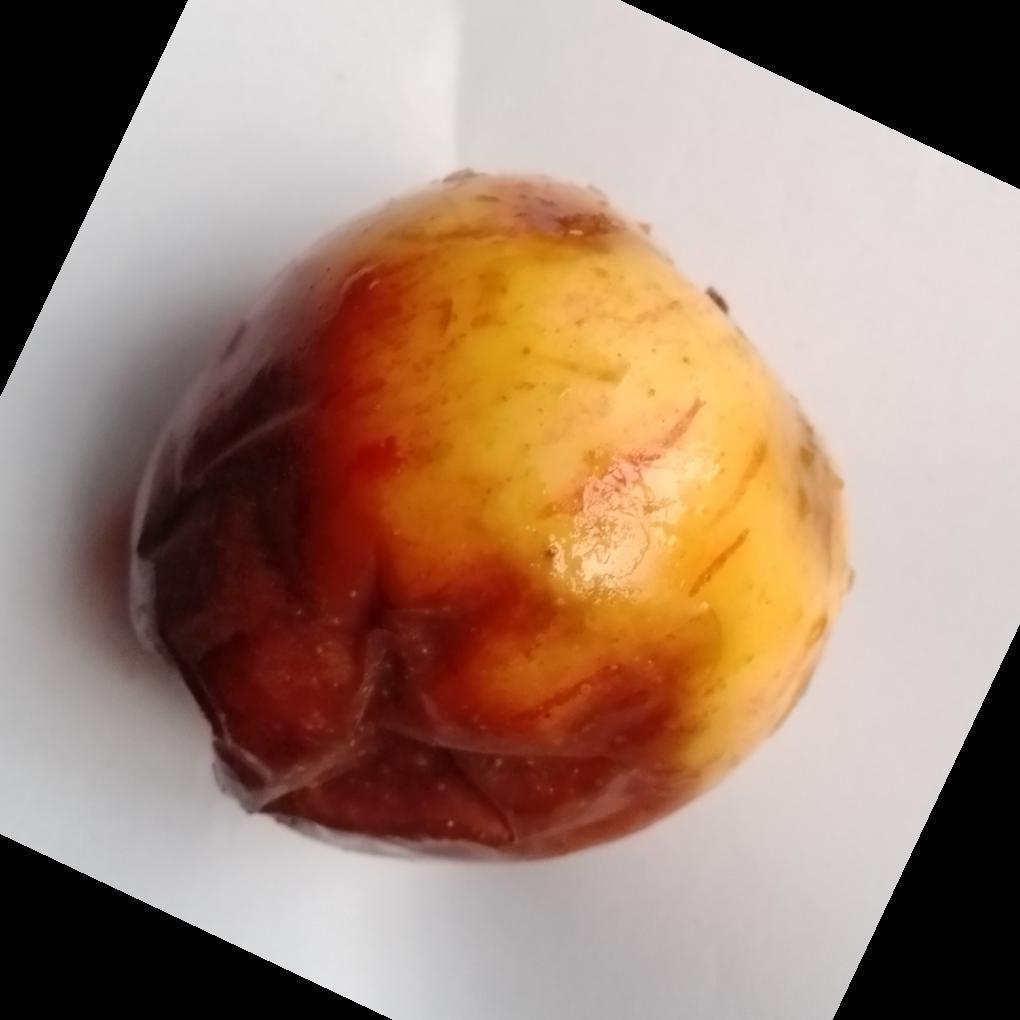FreshOrange: (125, 172, 855, 868)
